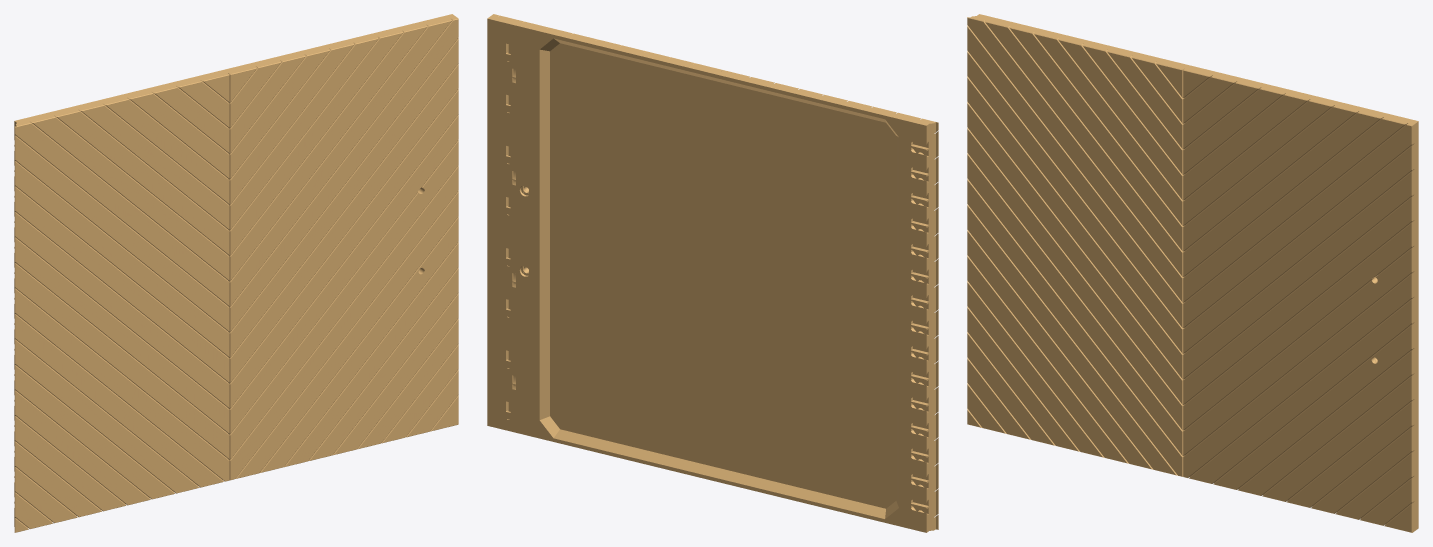
The model's file is Door_Chevron_3W-4H.lib.glb.
3 renders of one model, left to right at view 1: azimuth 30°, elevation 25°; view 2: azimuth 150°, elevation 25°; view 3: azimuth 330°, elevation 25°, orthographic.
Parts seen in each view (by area): view 1: Door_Chevron_3W-4H; view 2: Door_Chevron_3W-4H; view 3: Door_Chevron_3W-4H.
Boxes of the visible parts, left/top/right/bottom form: Door_Chevron_3W-4H: left=14, top=14, right=458, bottom=532; Door_Chevron_3W-4H: left=487, top=14, right=938, bottom=532; Door_Chevron_3W-4H: left=967, top=14, right=1418, bottom=532.
Bounding box in the file's own units: 255 × 223 × 6.51.
